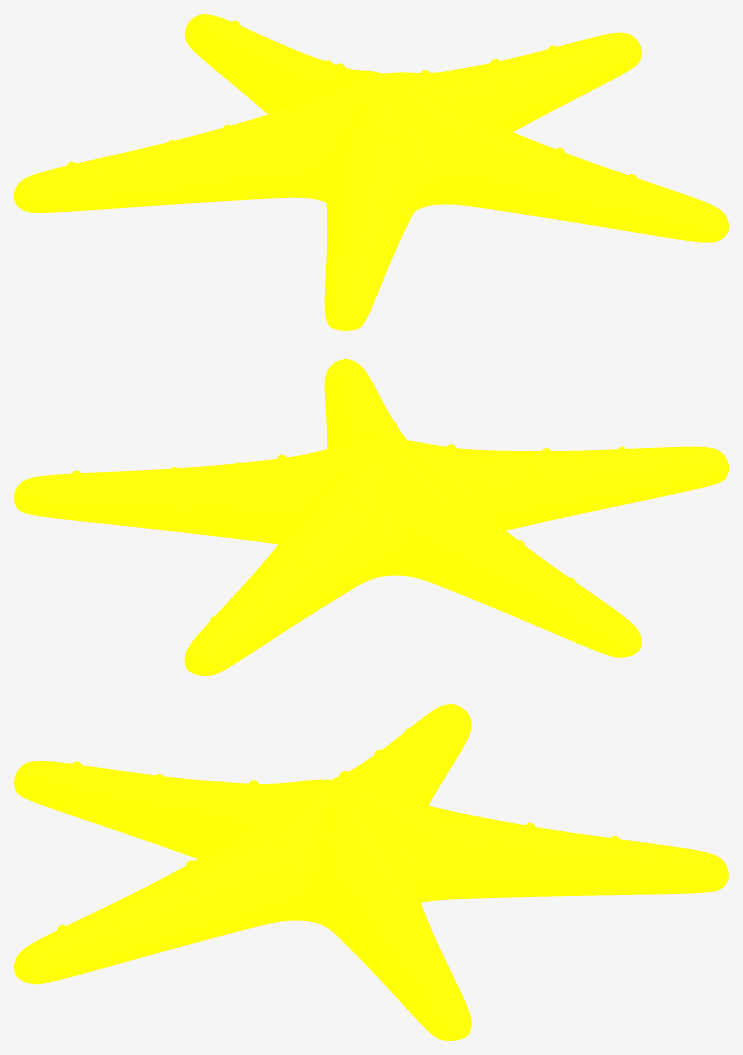
Rendered from starfish_yellow.dae.
3 views of the same model, one above another, from view 1: azimuth 30°, elevation 25°; view 2: azimuth 150°, elevation 25°; view 3: azimuth 270°, elevation 25° (orthographic). The views are drawn at different scales.
Visible parts, largest first — view 1: starfish; view 2: starfish; view 3: starfish.
Part boxes in pixels (box(x1,y1,x2,y2)): starfish: box(14, 14, 728, 330); starfish: box(14, 359, 728, 675); starfish: box(14, 704, 728, 1040).
Bounding box in the file's own units: 14.37 × 13.71 × 2.28.
